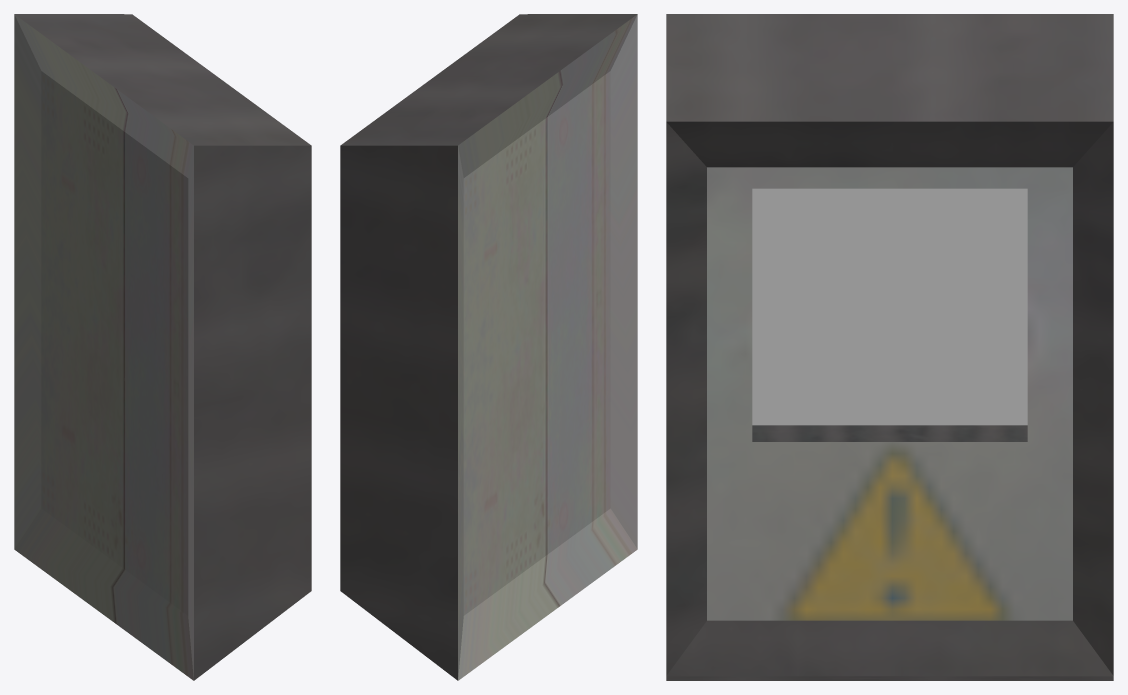
Rendered from reroute_wallpanel.fbx.
3 views of the same model, side by side, from view 1: azimuth 30°, elevation 25°; view 2: azimuth 150°, elevation 25°; view 3: azimuth 270°, elevation 25° (orthographic). The views are drawn at different scales.
Visible parts, largest first — view 1: Cube; view 2: Cube; view 3: Cube.
Part boxes in pixels (x1=…): Cube: x1=14, y1=14, x2=311, y2=680; Cube: x1=340, y1=14, x2=637, y2=680; Cube: x1=666, y1=14, x2=1113, y2=680.
Size of the model in its own units: 92.72 by 402 by 245.
